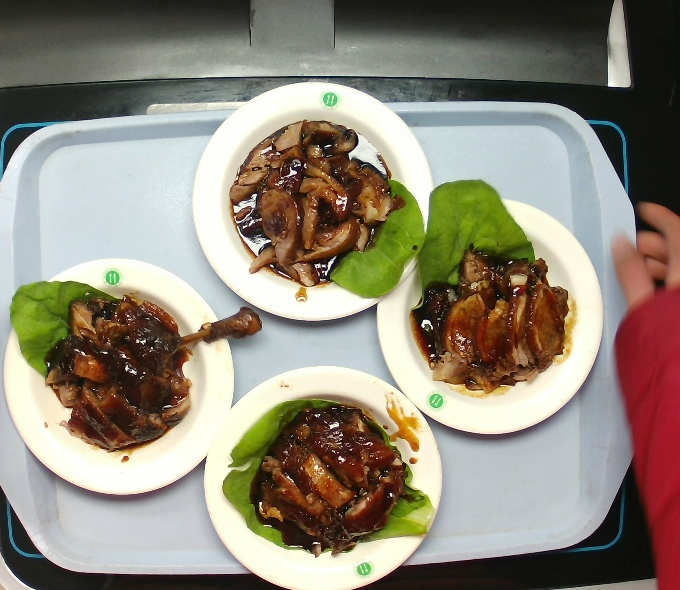wcq-MiZhiYa: (206, 108, 438, 311), (13, 286, 220, 448), (405, 208, 582, 393), (223, 395, 423, 556)
